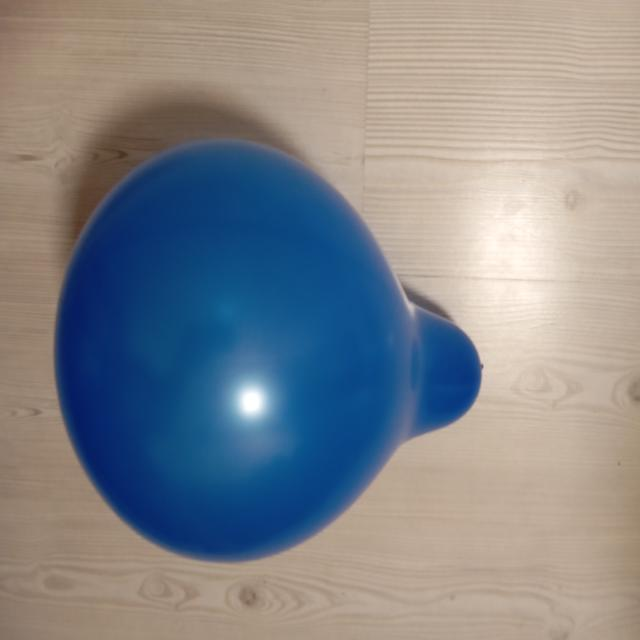balloon: (55, 139, 481, 561)
